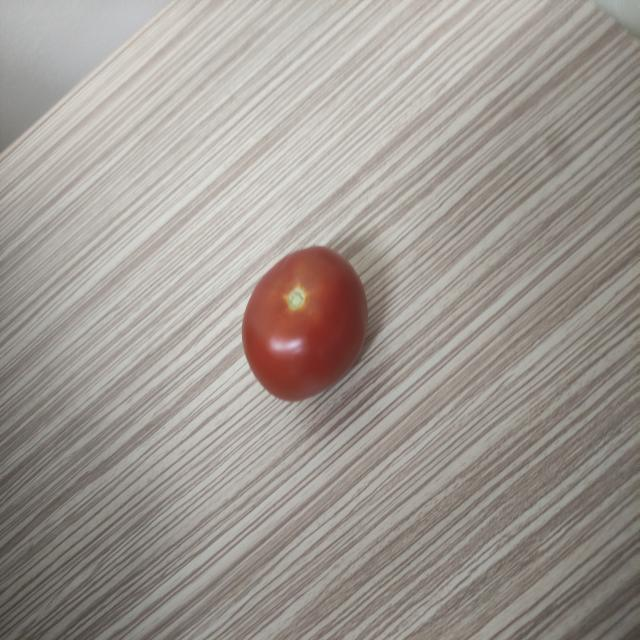kirmizi: (232, 232, 374, 413)
